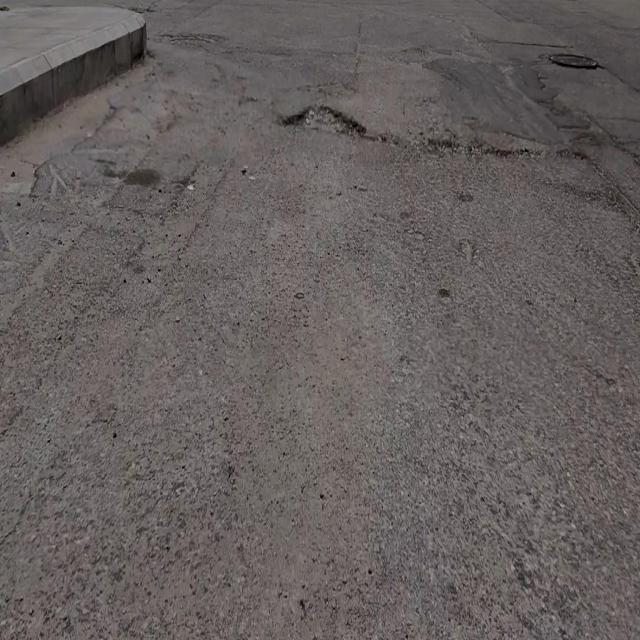Potholes: (281, 100, 368, 140)
